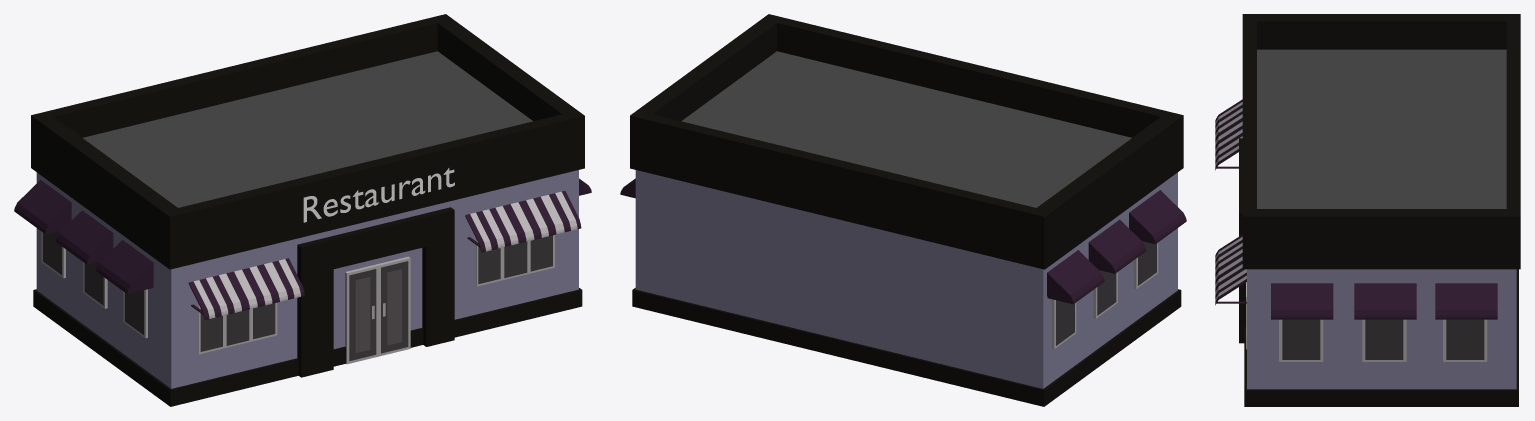
The model's file is Building_Restaurant.fbx.
3 renders of one model, left to right at view 1: azimuth 30°, elevation 25°; view 2: azimuth 150°, elevation 25°; view 3: azimuth 270°, elevation 25°, orthographic.
Visible parts, largest first — view 1: Cube, Text; view 2: Cube; view 3: Cube.
Boxes of the visible parts, left/top/right/bottom form: Cube: left=14, top=14, right=591, bottom=406; Text: left=303, top=168, right=454, bottom=222; Cube: left=620, top=14, right=1186, bottom=406; Cube: left=1215, top=14, right=1520, bottom=406.
Size of the model in its own units: 2547 by 1014 by 1468.
